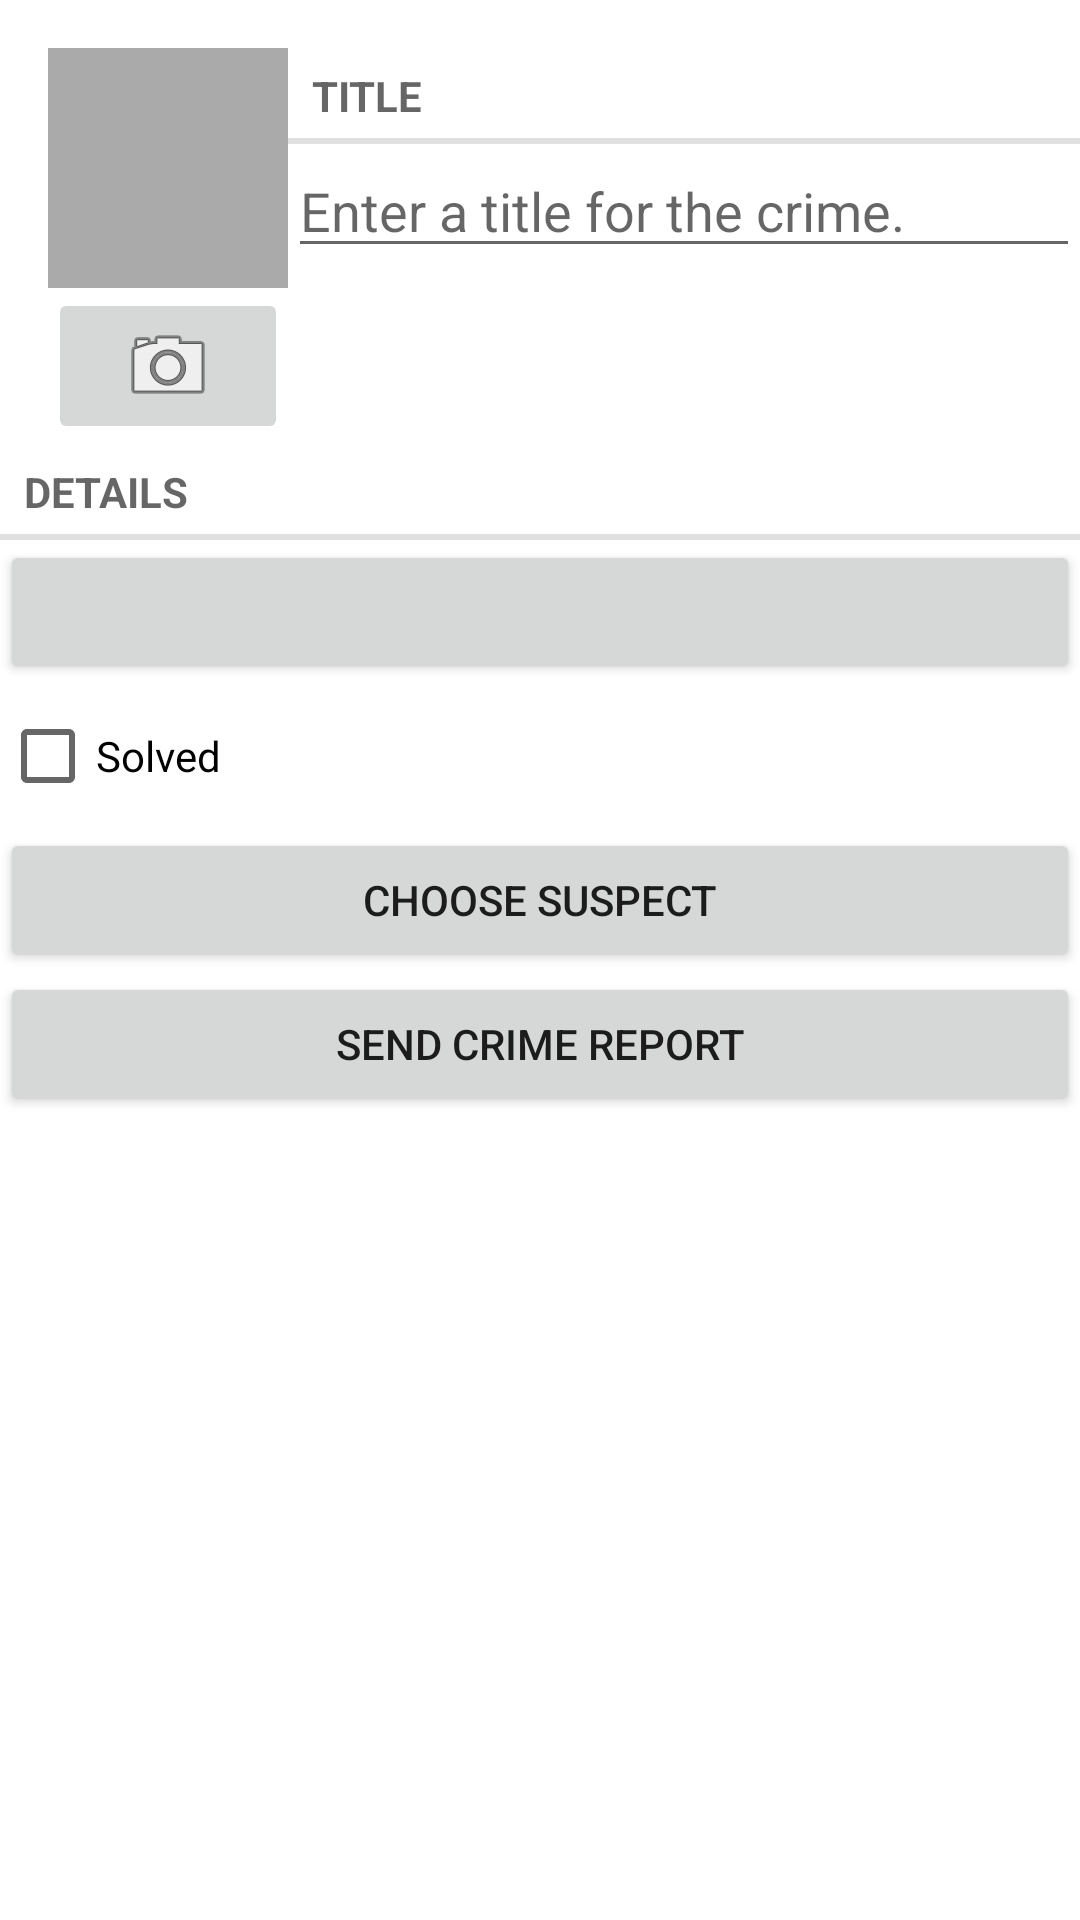

Locate icon controls on the screen. Image size 1080 × 1920, boxes as Rect(x1, y1, x2, y2).
Take photo of crime scene: Rect(60, 306, 276, 426)
